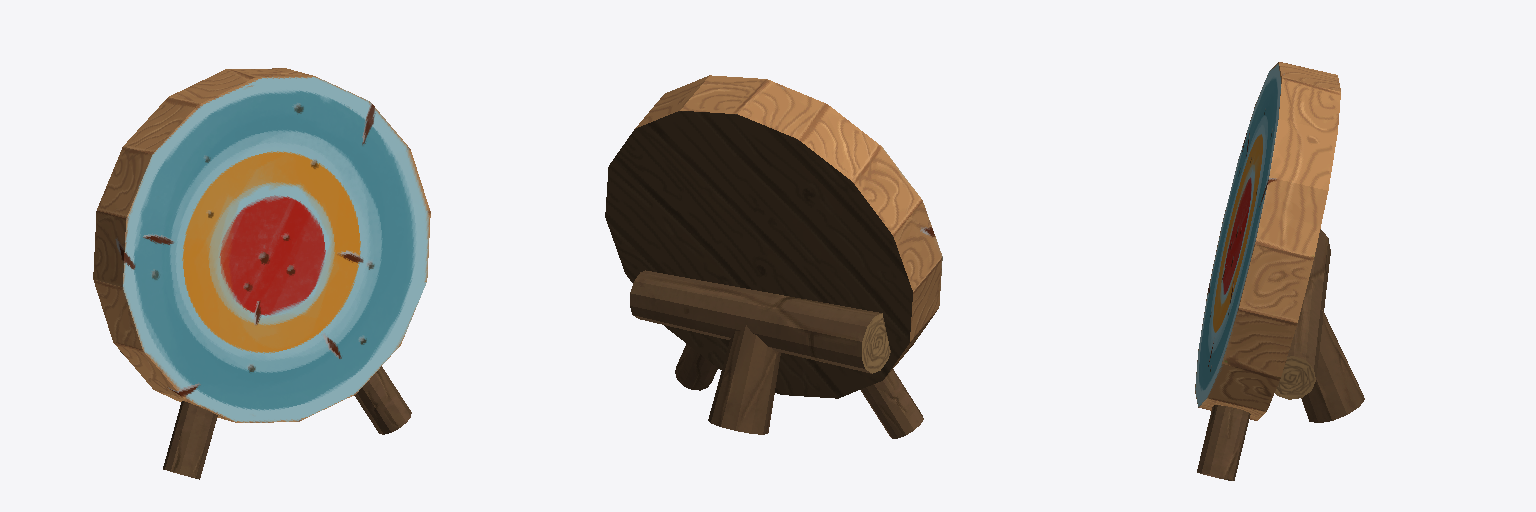
3 views of the same model, side by side, from view 1: azimuth 30°, elevation 25°; view 2: azimuth 150°, elevation 25°; view 3: azimuth 270°, elevation 25° (orthographic).
Visible parts, largest first — view 1: targetBoard; view 2: targetBoard; view 3: targetBoard.
Part boxes in pixels (bbox=[...]): targetBoard: bbox=[93, 68, 430, 479]; targetBoard: bbox=[605, 75, 942, 438]; targetBoard: bbox=[1195, 62, 1364, 480].
Bounding box in the file's own units: 4.1 × 4.52 × 1.96.
Materials: 1 (1 with a texture image).